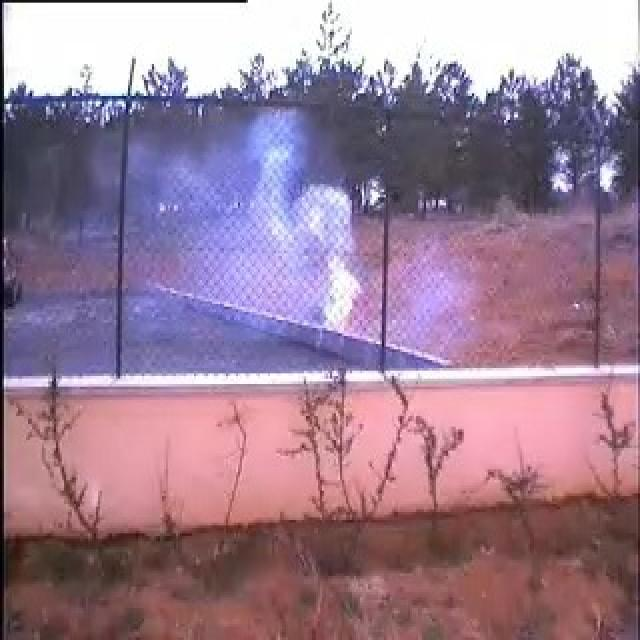smoke: (130, 110, 368, 350)
